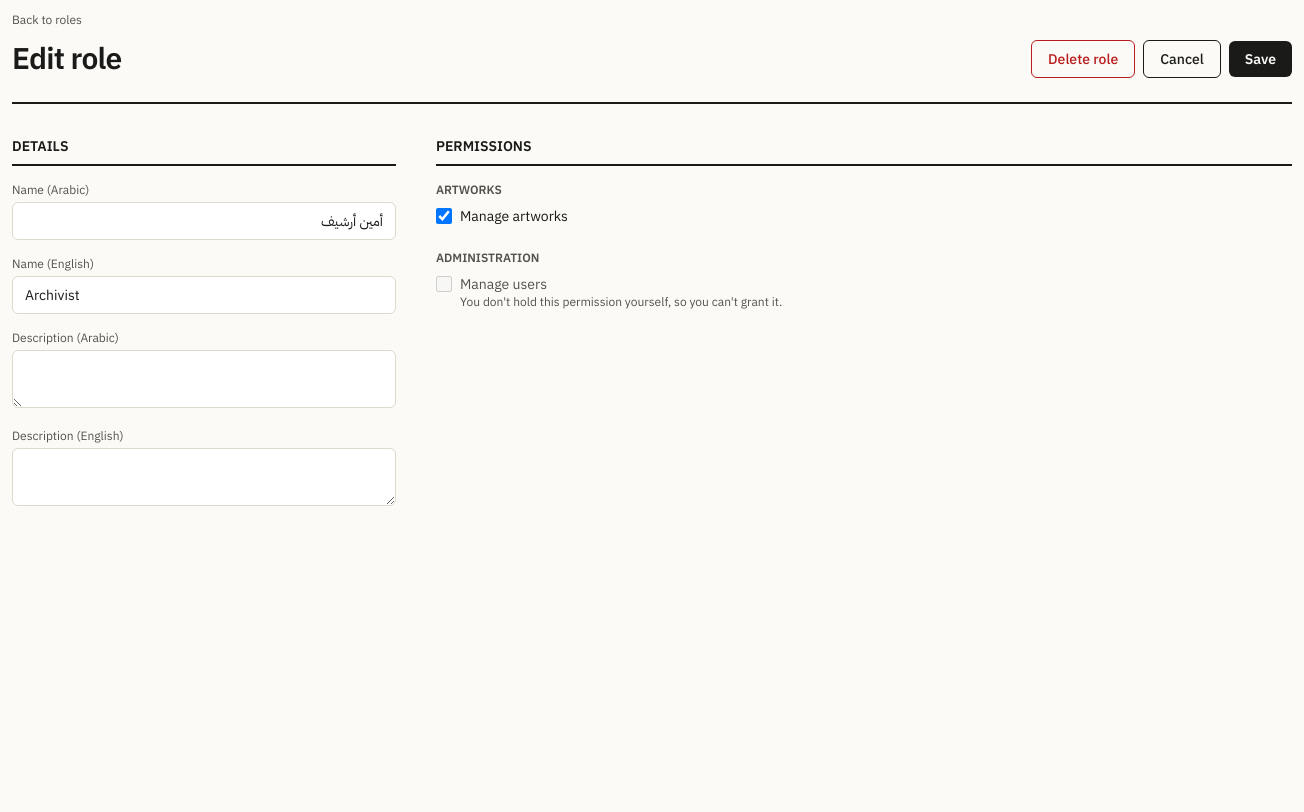
RoleEditPage › shows a distinct message for a stale concurrency conflict and offers to reload
Replace the text in the field with test id "role-name-en" with "Renamed" at (204, 295), box x1=12 y1=276 x2=396 y2=314
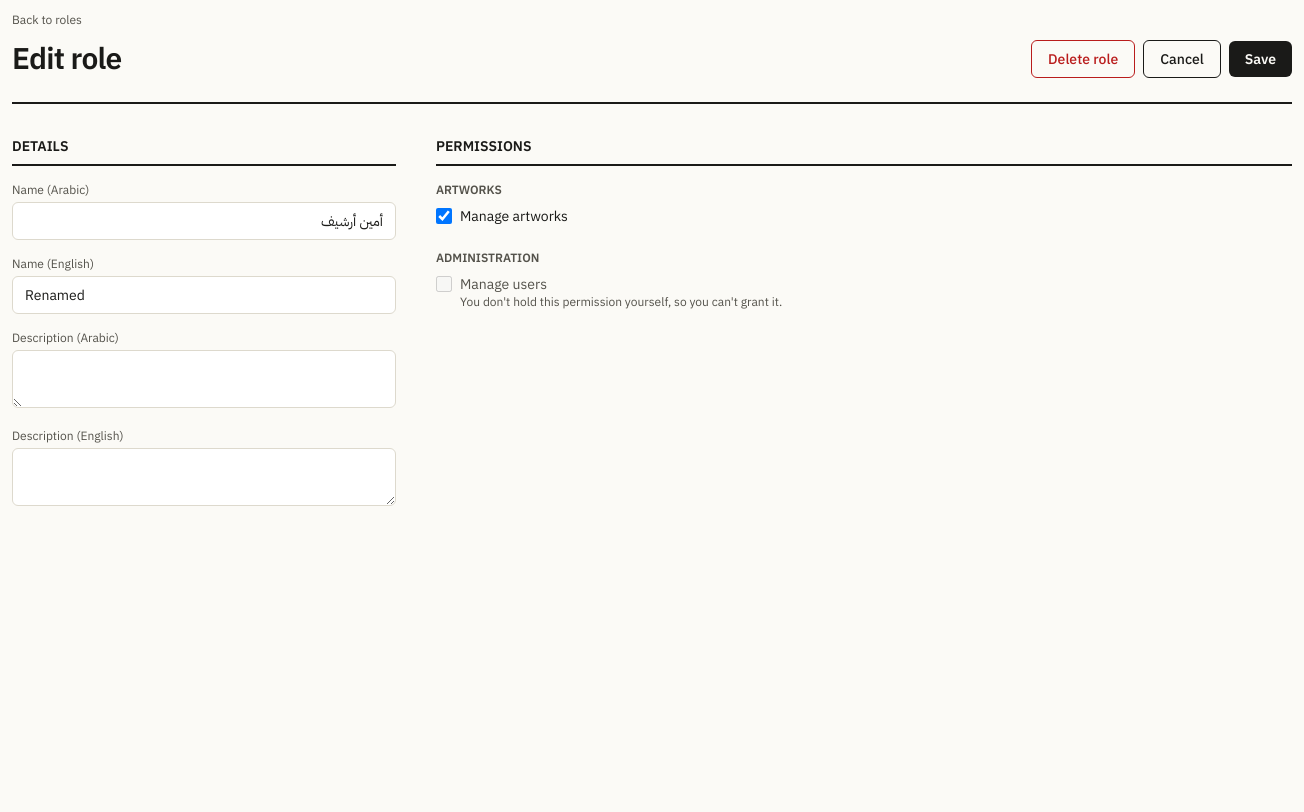
Submit the form from the button with test id "role-submit", box x1=1229 y1=41 x2=1292 y2=77
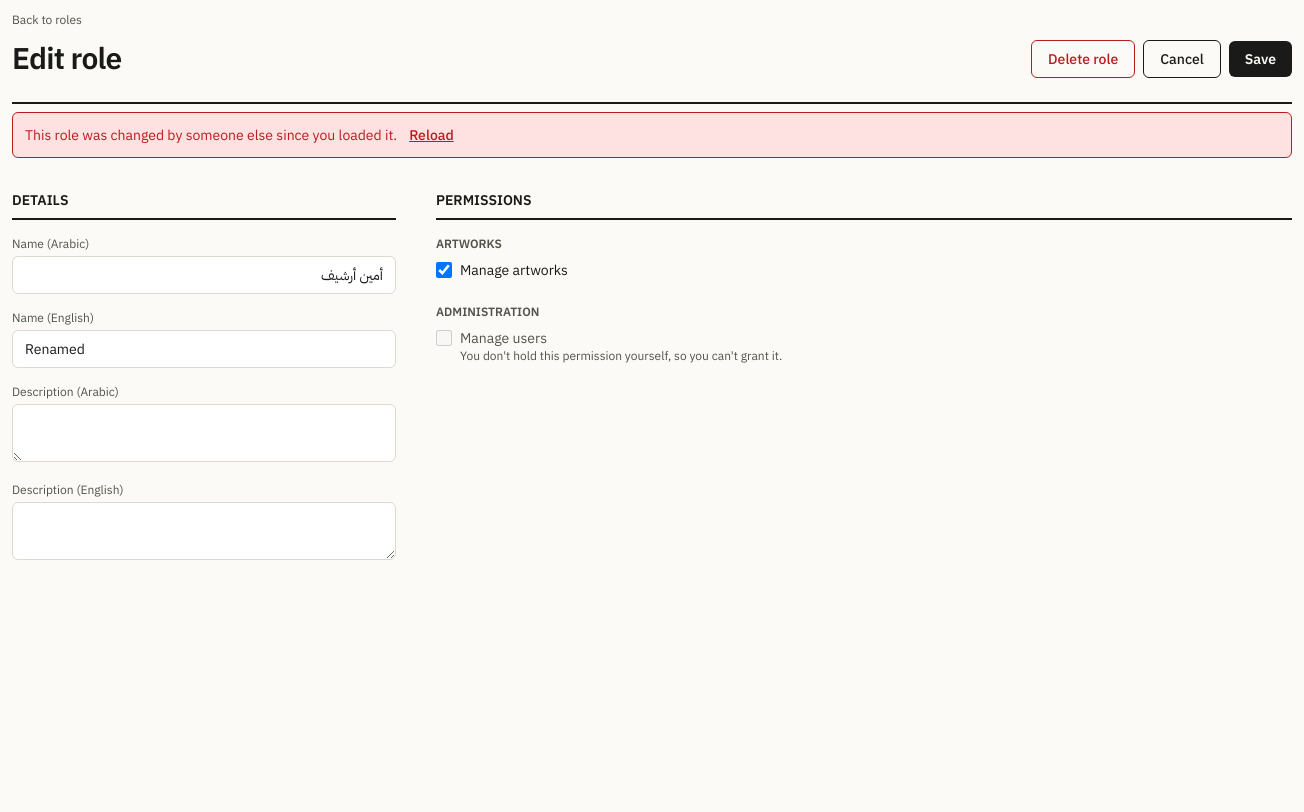
expect the element with test id "stale-conflict" is shown: met, box x1=12 y1=112 x2=1292 y2=158
